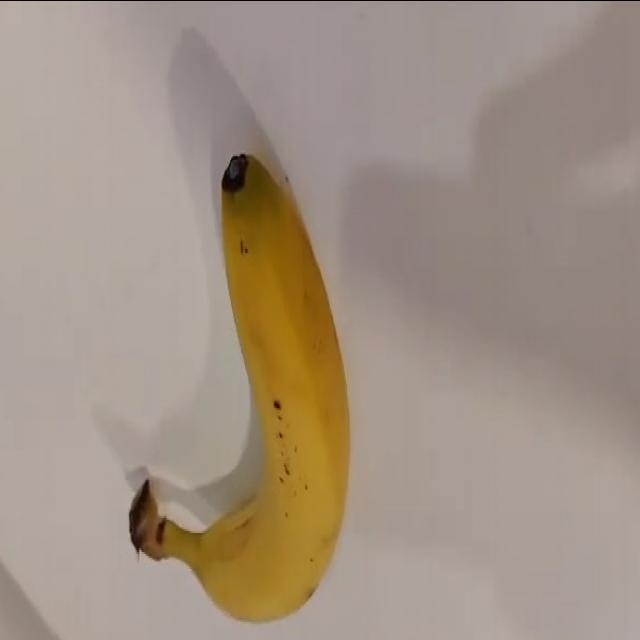Banana: (127, 151, 350, 623)
